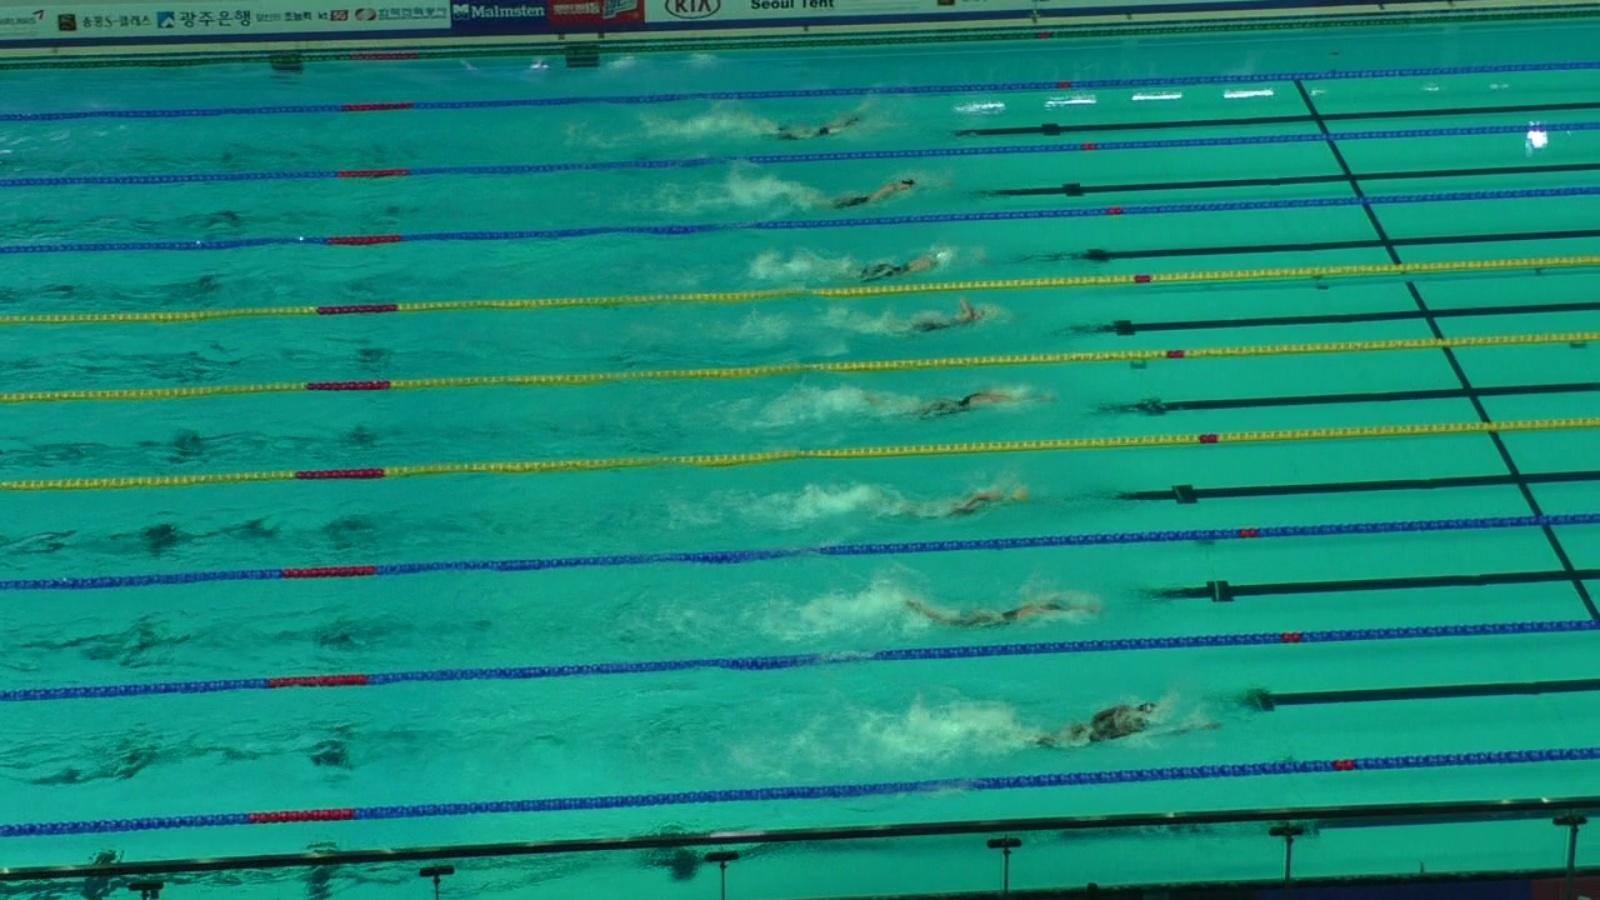swimmerwdd: (998, 700, 1193, 760), (859, 385, 1043, 423), (762, 97, 885, 149), (873, 484, 1031, 523), (879, 297, 995, 348), (893, 599, 1067, 631), (790, 177, 922, 216), (835, 249, 943, 284)
